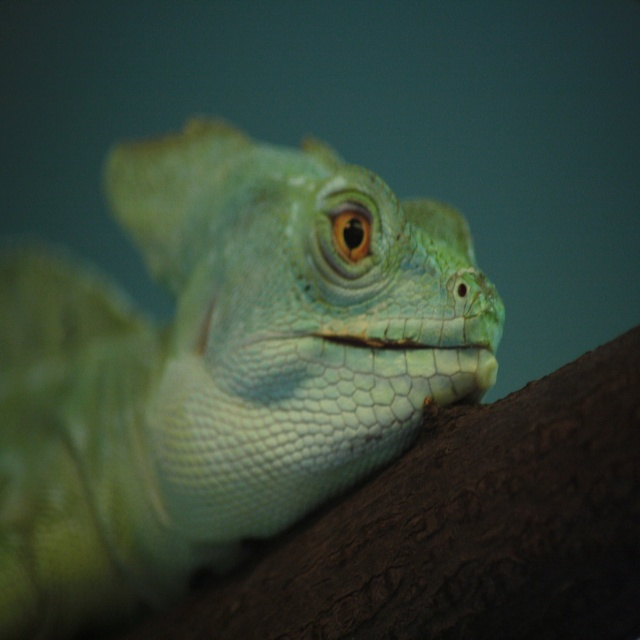Lizard: (1, 112, 496, 613)
